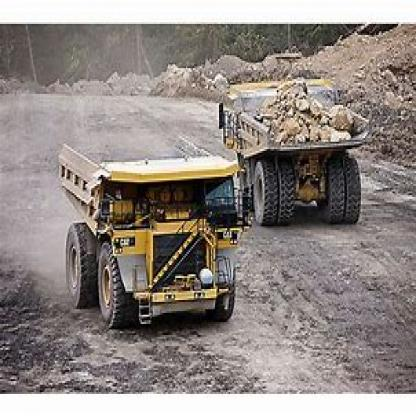dump_truck: (52, 123, 241, 333), (219, 77, 373, 230)
